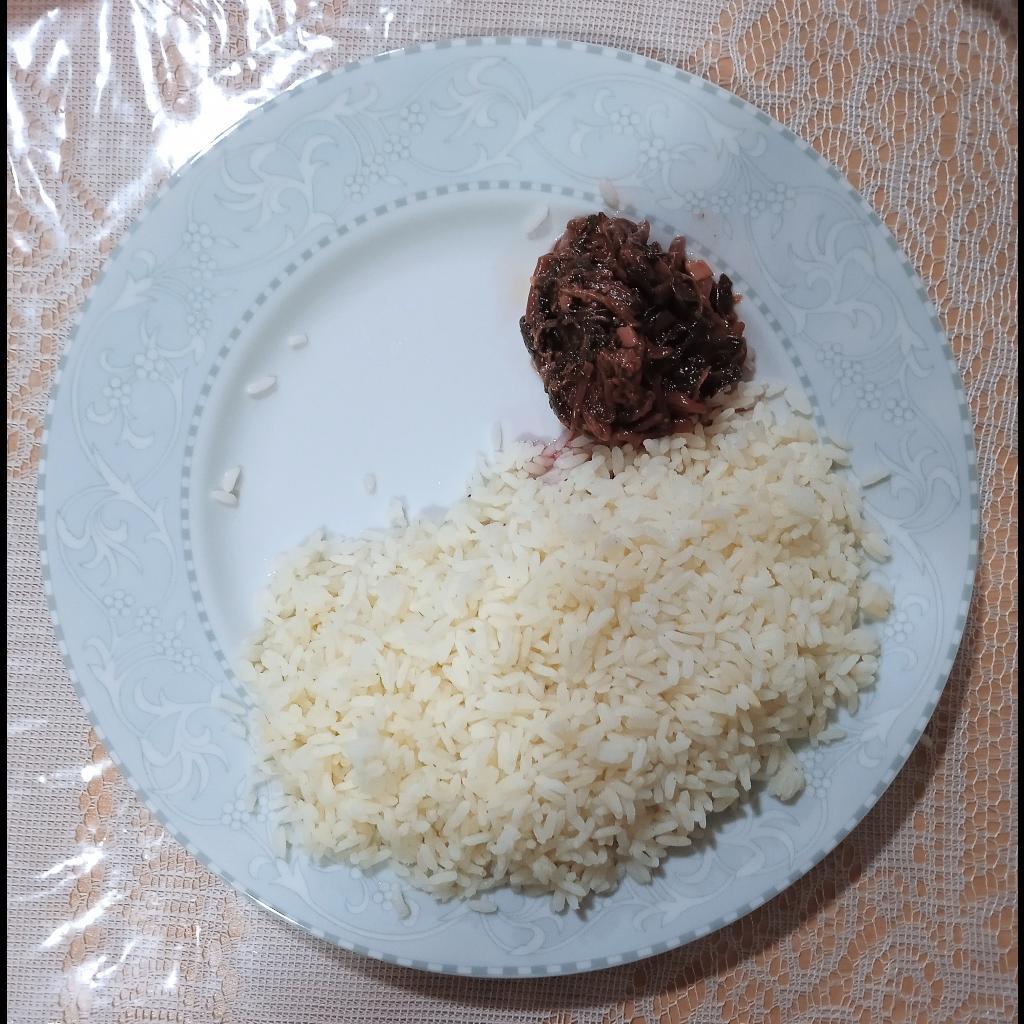rice: (242, 382, 896, 911)
shak: (523, 213, 748, 451)
